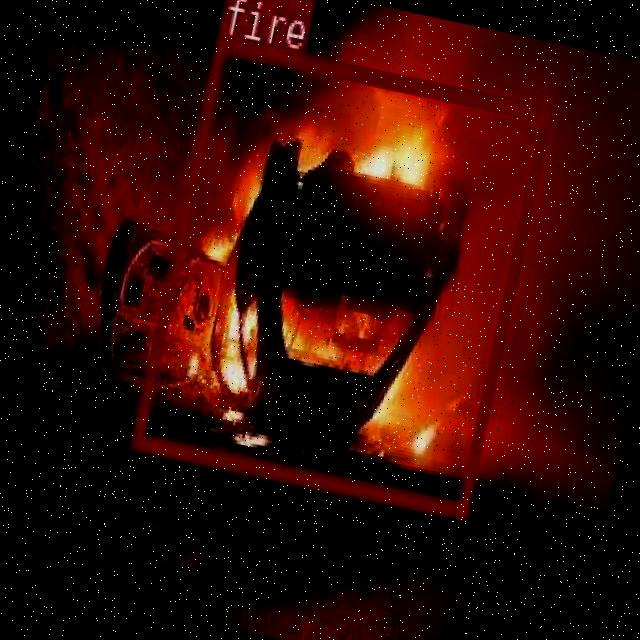fire: (129, 34, 552, 515)
